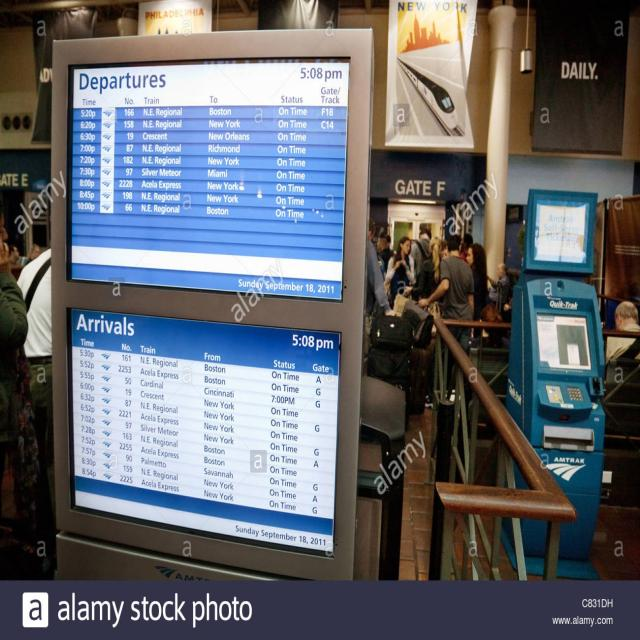body: (1, 155, 58, 570), (0, 206, 43, 542), (418, 233, 474, 357), (364, 216, 396, 319), (424, 207, 465, 272), (604, 298, 640, 365), (465, 242, 489, 339), (384, 233, 414, 310), (409, 227, 434, 287), (486, 262, 509, 318), (380, 232, 395, 273), (376, 232, 386, 277)
